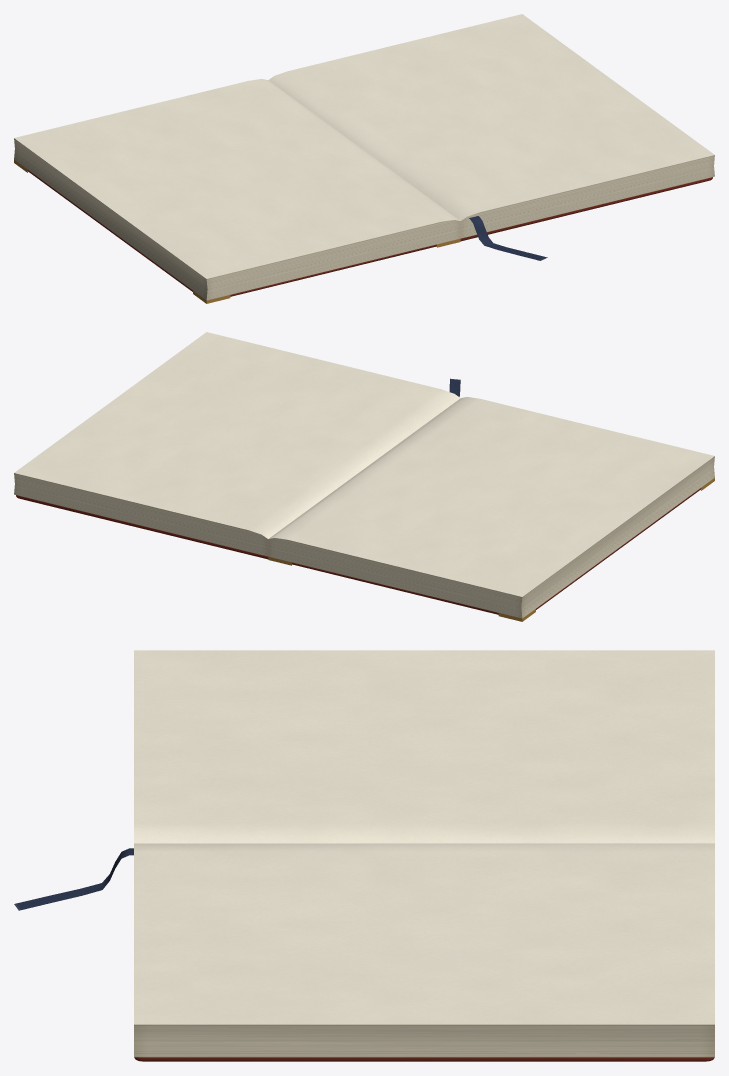
The model's file is book.glb.
The picture shows the model from 3 angles, top to bottom: view 1: azimuth 30°, elevation 25°; view 2: azimuth 150°, elevation 25°; view 3: azimuth 270°, elevation 25°; orthographic projection. The views are drawn at different scales.
Visible parts, largest first — view 1: page_right, page_left, pages_left_block, pages_right_block, cover_front, cover_back, ribbon; view 2: page_right, page_left, pages_left_block, pages_right_block, cover_front, cover_back; view 3: page_left, page_right, pages_right_block, cover_back, ribbon.
Boxes of the visible parts, bbox=[...] form: page_right: bbox=[268, 14, 714, 220]; page_left: bbox=[14, 79, 459, 278]; pages_left_block: bbox=[14, 138, 460, 300]; pages_right_block: bbox=[460, 155, 714, 238]; cover_front: bbox=[27, 170, 436, 296]; cover_back: bbox=[460, 177, 712, 241]; ribbon: bbox=[469, 216, 547, 260]; page_right: bbox=[14, 332, 460, 538]; page_left: bbox=[269, 397, 714, 596]; pages_left_block: bbox=[268, 456, 714, 618]; pages_right_block: bbox=[14, 473, 268, 556]; cover_front: bbox=[292, 488, 701, 614]; cover_back: bbox=[16, 495, 268, 559]; page_left: bbox=[134, 650, 714, 843]; page_right: bbox=[134, 843, 714, 1024]; pages_right_block: bbox=[134, 1024, 714, 1057]; cover_back: bbox=[134, 1057, 714, 1061]; ribbon: bbox=[14, 848, 133, 910].
Bounding box in the file's own units: 6.4 × 0.3 × 5.07.
5 materials, 4 textured.
